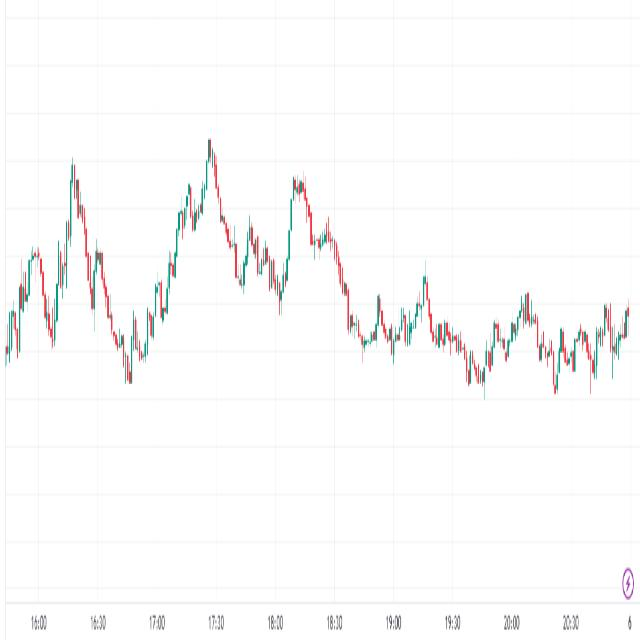Channel-up: (117, 150, 209, 429)
Descending-Triangle: (41, 40, 139, 360), (178, 76, 304, 302)
Rounding-Bottom: (80, 183, 194, 404), (426, 289, 531, 406)
